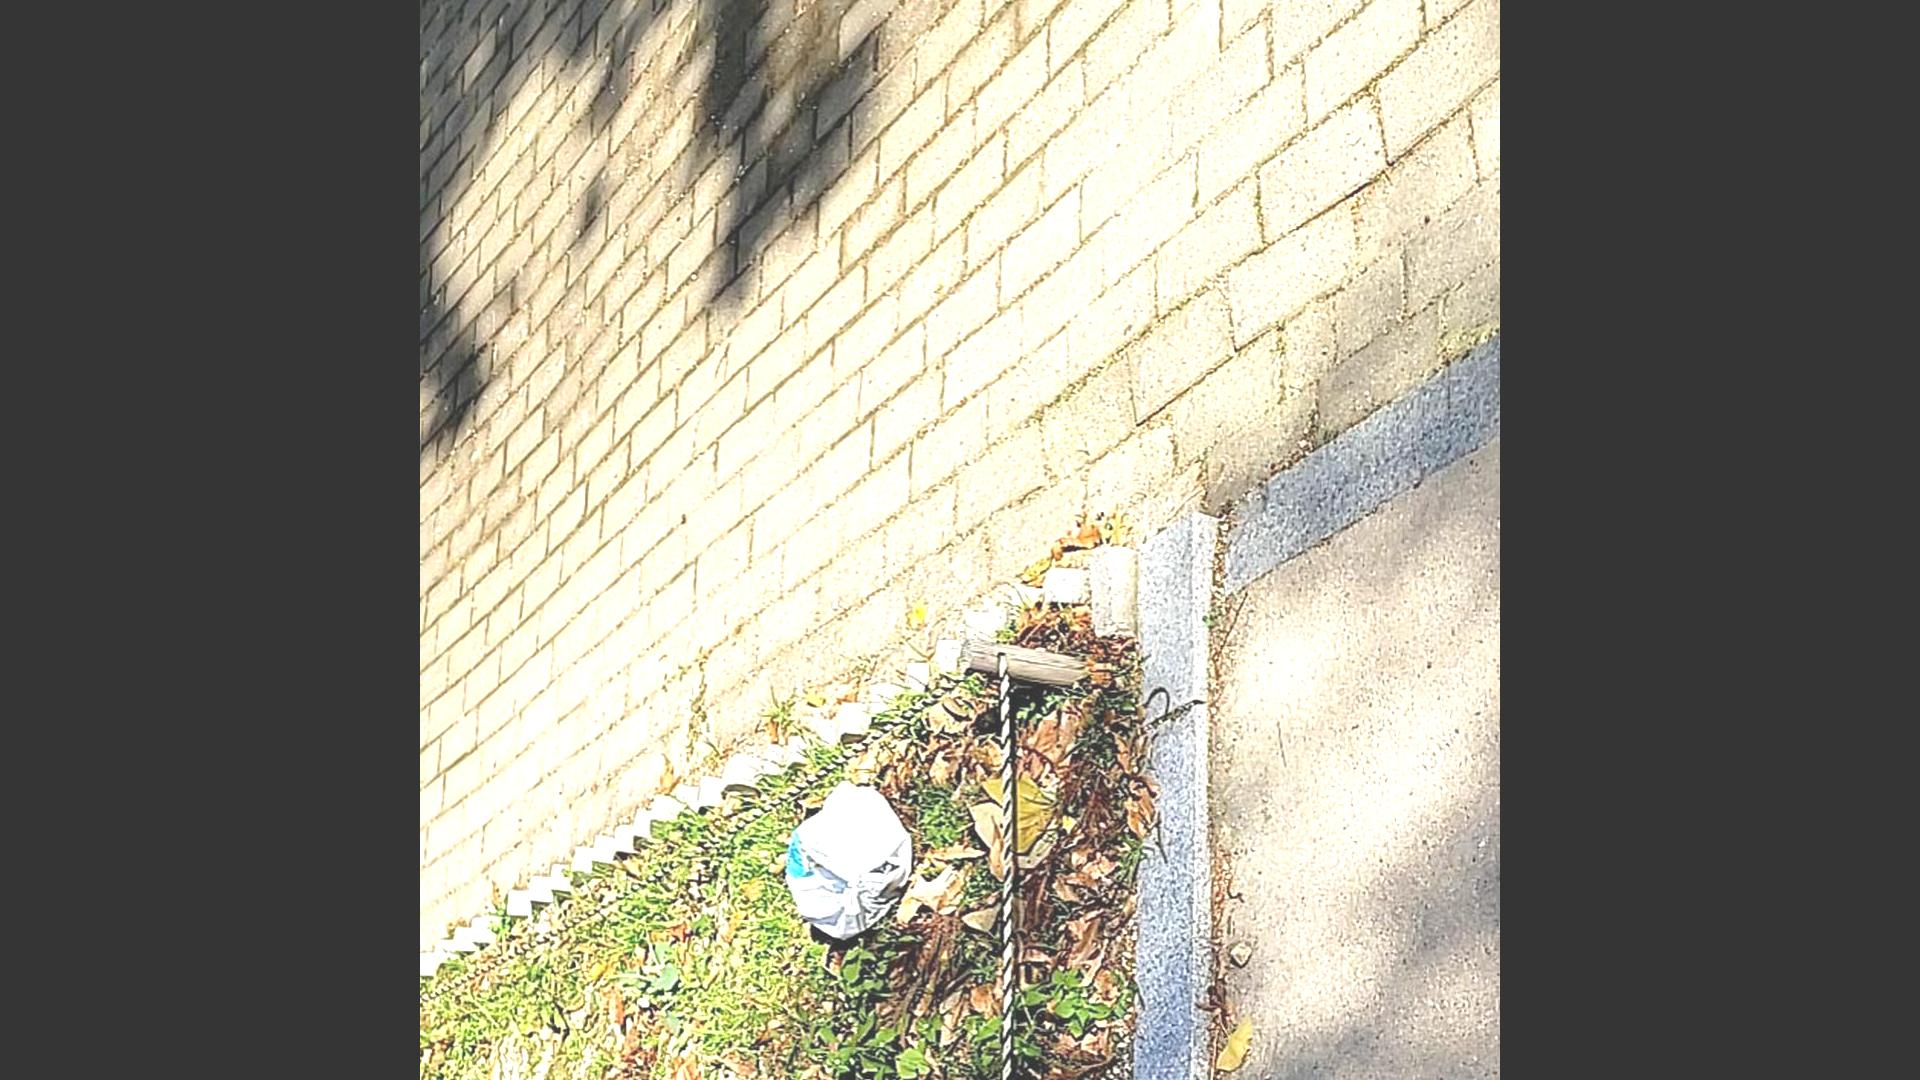white_bag: (774, 770, 916, 956)
